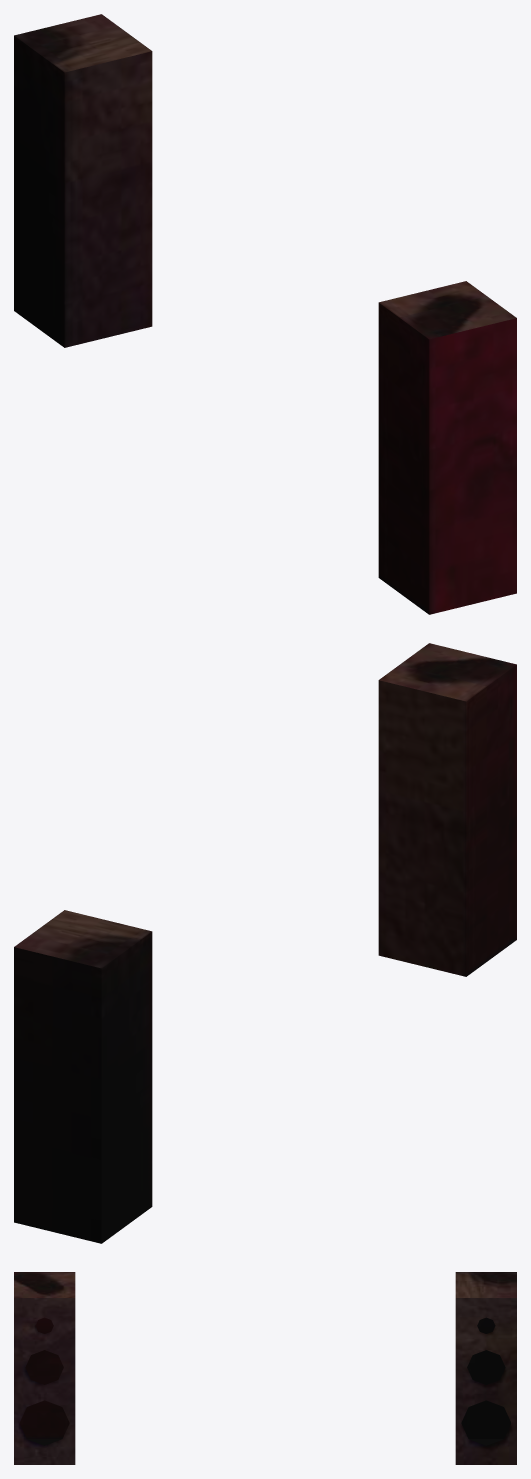
The model's file is speakers.glb.
The picture shows the model from 3 angles, top to bottom: view 1: azimuth 30°, elevation 25°; view 2: azimuth 150°, elevation 25°; view 3: azimuth 270°, elevation 25°; orthographic projection. The views are drawn at different scales.
Visible parts, largest first — view 1: speakers; view 2: speakers; view 3: speakers.
Boxes of the visible parts, box(x1,y1,x2,y2) form: speakers: box(14, 14, 516, 614); speakers: box(14, 643, 516, 1243); speakers: box(14, 1272, 516, 1464).
Bounding box in the file's own units: 2 × 6 × 16.4.
1 material, 1 textured.
